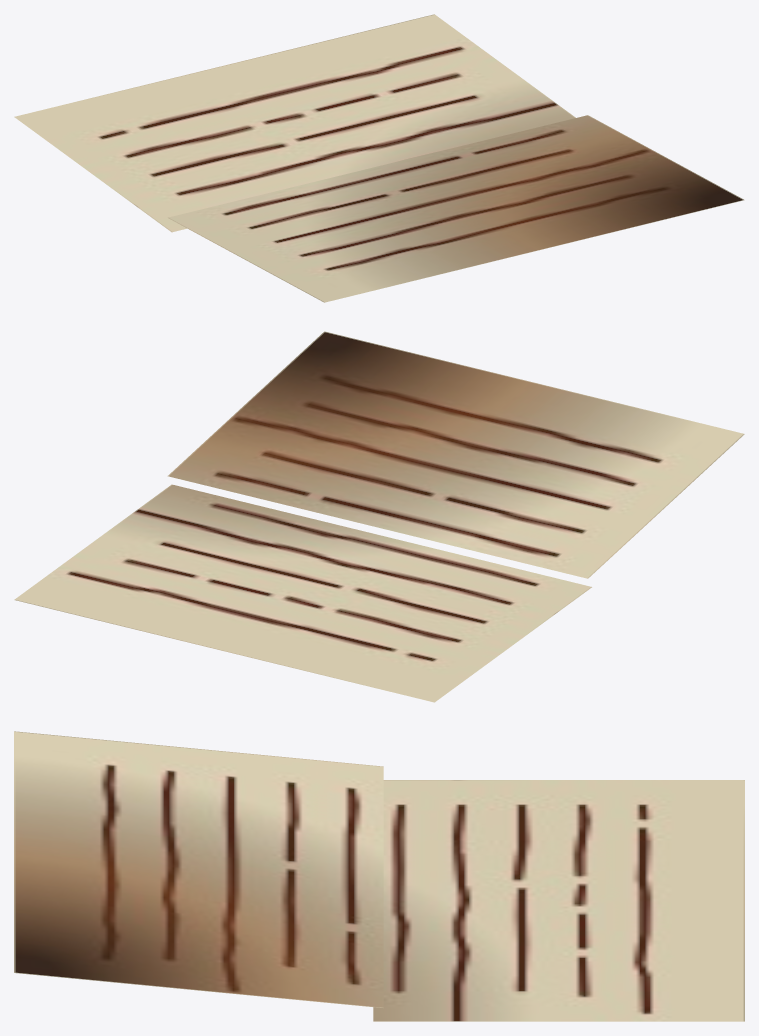
The model's file is ashbound_note.glb.
3 views of the same model, one above another, from view 1: azimuth 30°, elevation 25°; view 2: azimuth 150°, elevation 25°; view 3: azimuth 270°, elevation 25° (orthographic). The views are drawn at different scales.
Visible parts, largest first — view 1: ashbound_note; view 2: ashbound_note; view 3: ashbound_note.
Boxes of the visible parts, x1=… form: ashbound_note: x1=14, y1=14, x2=744, y2=302; ashbound_note: x1=14, y1=331, x2=744, y2=702; ashbound_note: x1=14, y1=731, x2=744, y2=1021.
Size of the model in its own units: 0.1 by 0.0094 by 0.1278.
Materials: 1 (1 with a texture image).
